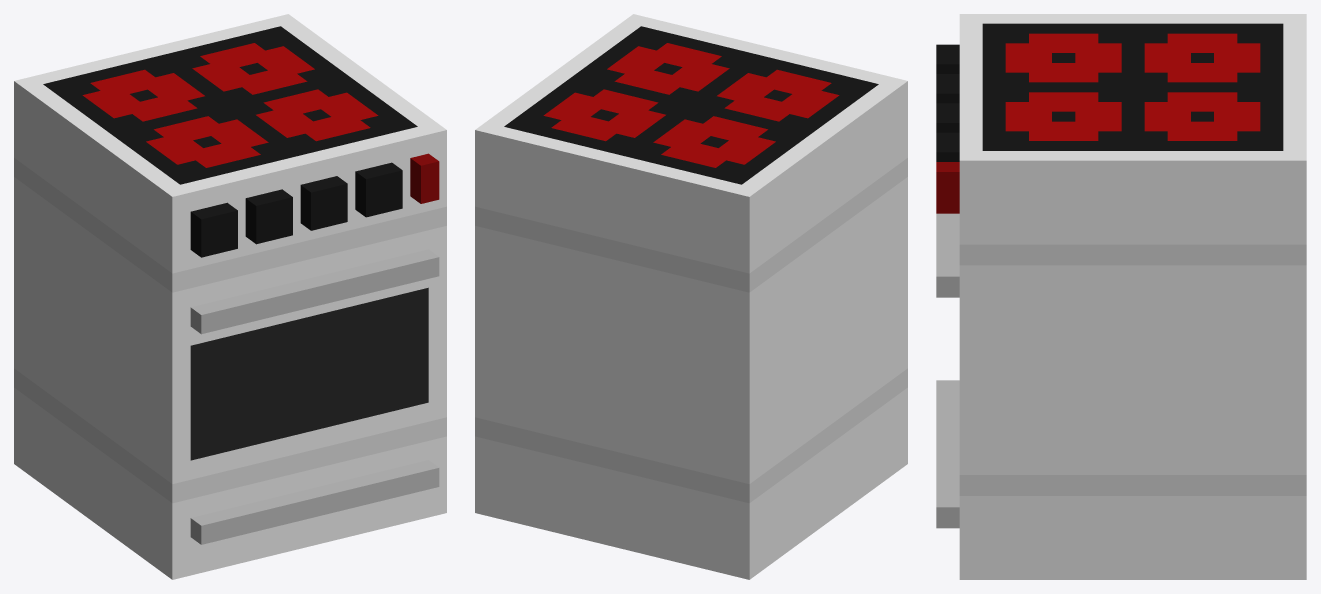
The model's file is stove.obj.
The picture shows the model from 3 angles, left to right: view 1: azimuth 30°, elevation 25°; view 2: azimuth 150°, elevation 25°; view 3: azimuth 270°, elevation 25°; orthographic projection. The views are drawn at different scales.
Bounding box in the file's own units: 1.5 × 2 × 1.6.
Materials: 1 (1 with a texture image).
